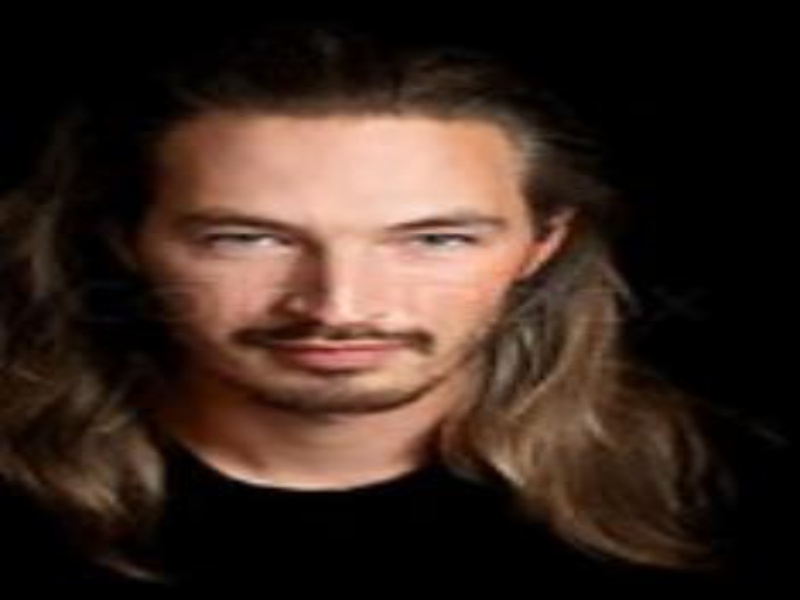TsisyArotava: (97, 67, 623, 459)
